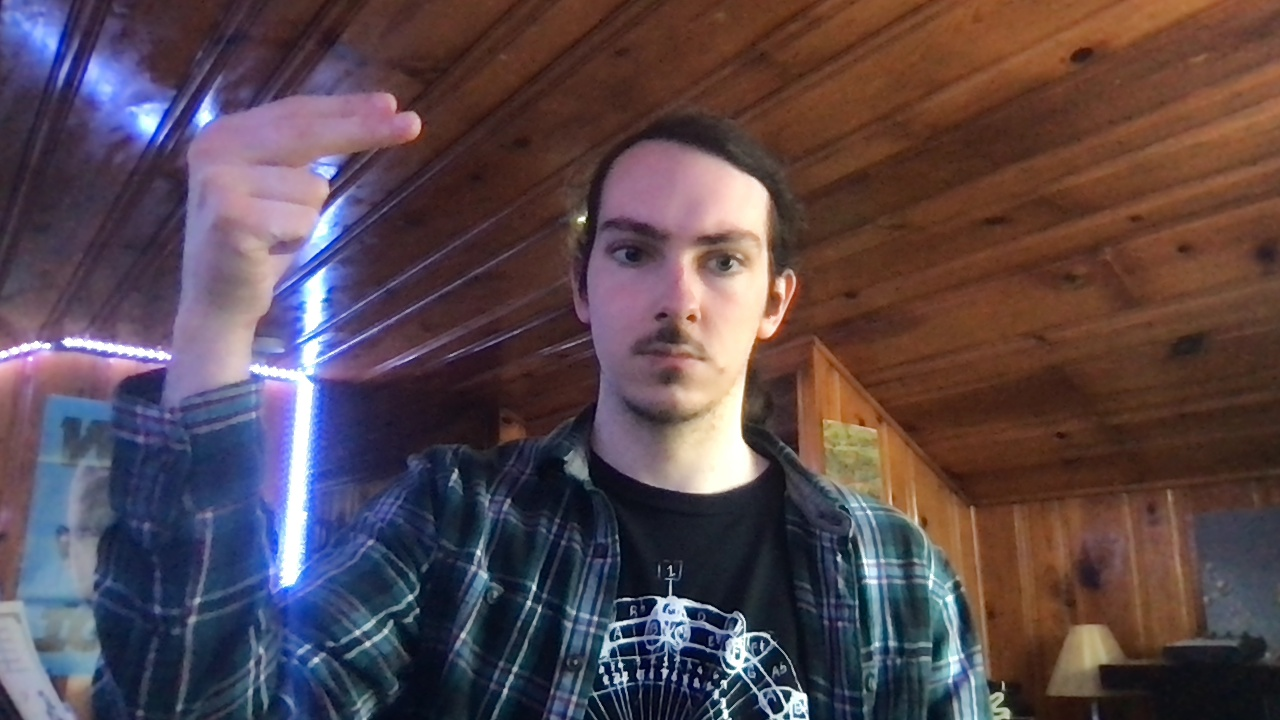h: (176, 89, 424, 325)
